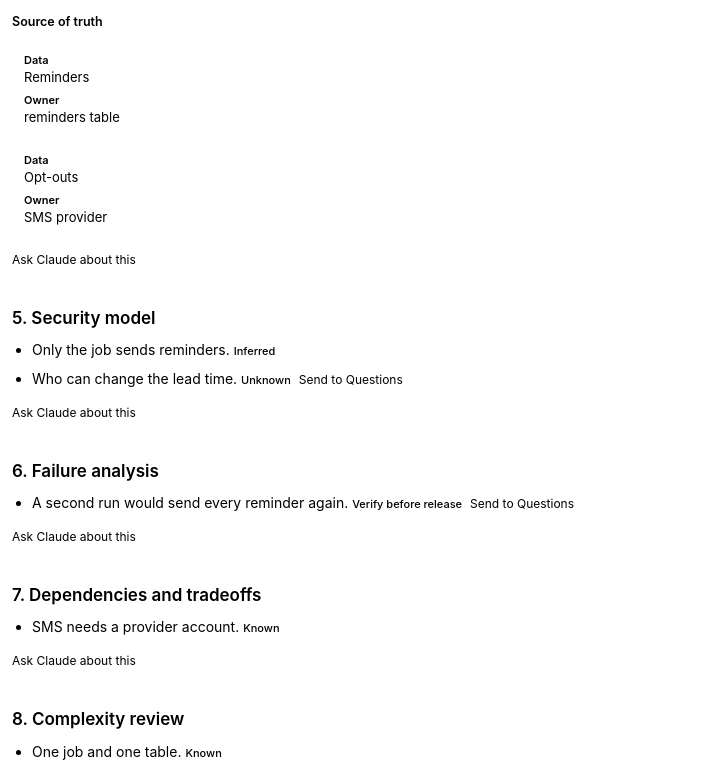
Test case: Study › sends a claim to Questions, and says Claude will suggest answers
This screenshot has width=711, height=763.
(page scrolled)
Click the button with test id "send-to-plumbing" in the row of "Who can change the lead time." at (351, 380), box [299,370,403,389]
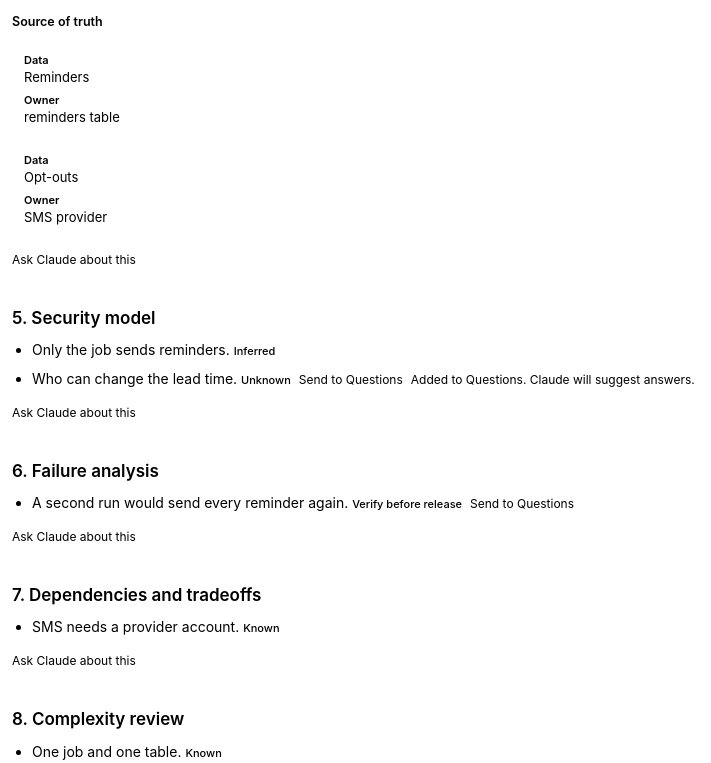
Expected: the message reads "Added to Questions. Claude will suggest answers.", [411,372,695,387]
